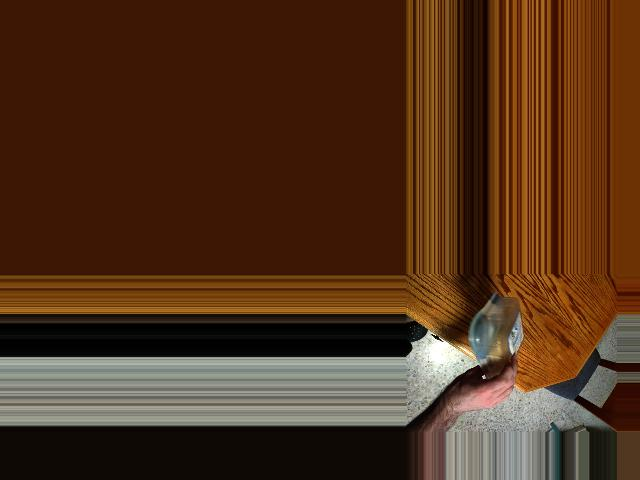cheese: (472, 292, 525, 395)
